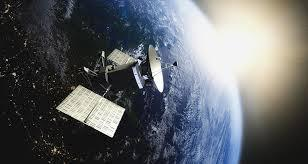antenna: (146, 43, 179, 94), (77, 66, 99, 86), (92, 50, 105, 69)
body: (104, 63, 146, 91)
solar: (55, 84, 127, 139), (106, 48, 138, 65)
